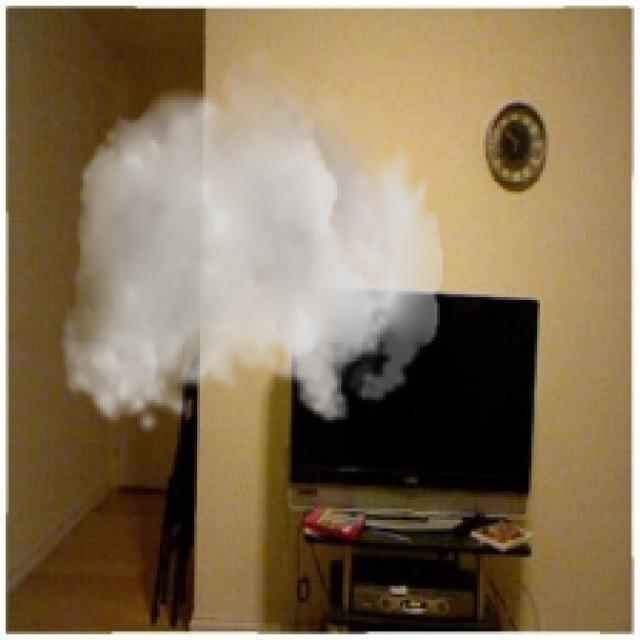Smoke: (60, 37, 446, 434)
